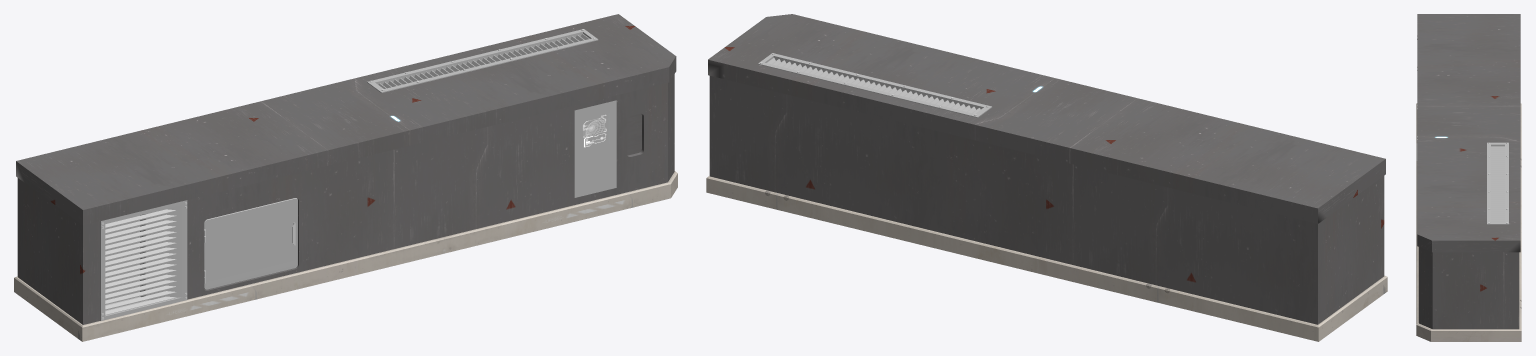
The model's file is KB3D_CBP_UtilityDevice_A.fbx.
3 renders of one model, left to right at view 1: azimuth 30°, elevation 25°; view 2: azimuth 150°, elevation 25°; view 3: azimuth 270°, elevation 25°, orthographic. The views are drawn at different scales.
Visible parts, largest first — view 1: KB3D_CBP_UtilityDevice_A_Main; view 2: KB3D_CBP_UtilityDevice_A_Main; view 3: KB3D_CBP_UtilityDevice_A_Main.
Part boxes in pixels (x1=…): KB3D_CBP_UtilityDevice_A_Main: x1=14, y1=14, x2=677, y2=341; KB3D_CBP_UtilityDevice_A_Main: x1=706, y1=14, x2=1387, y2=341; KB3D_CBP_UtilityDevice_A_Main: x1=1416, y1=14, x2=1521, y2=341.
Size of the model in its own units: 482 by 101 by 94.29.
